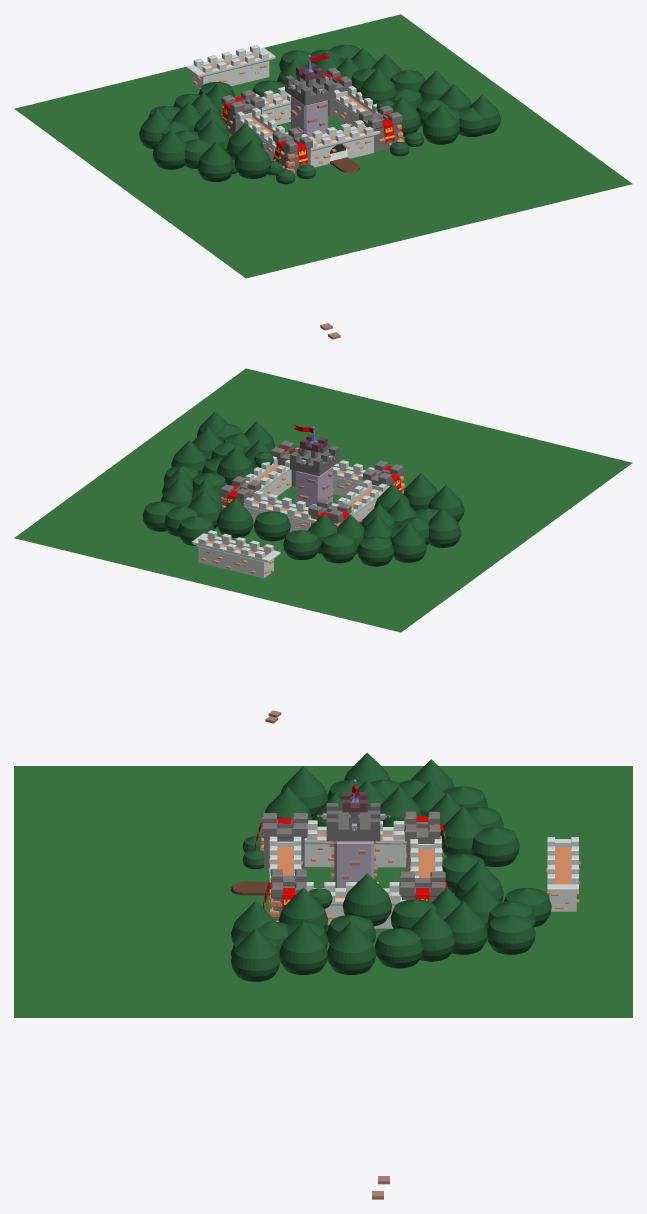
Rendered from castilloV2.glb.
3 renders of one model, top to bottom at view 1: azimuth 30°, elevation 25°; view 2: azimuth 150°, elevation 25°; view 3: azimuth 270°, elevation 25°, orthographic. The views are drawn at different scales.
Visible parts, largest first — view 1: Plane, MuroEsquina, Muro, MuroEsquina.003, MuroEsquina.002, MuroEsquina.001, Torre Central, TorreCentral2, Cylinder.006, Cylinder.011, Cylinder.032, Cylinder.033 (+11 smaller); view 2: Plane, Muro, MuroEsquina.002, MuroEsquina.001, MuroEsquina.003, Torre Central, TorreCentral2, MuroEsquina, Cylinder.041, Cylinder.010, Cylinder.033, Cylinder.047 (+13 smaller); view 3: Plane, MuroEsquina.003, MuroEsquina, MuroEsquina.001, Muro, MuroEsquina.002, Torre Central, TorreCentral2, Cylinder.007, Cylinder.018, Cylinder.019, Cylinder.036 (+22 smaller).
Boxes of the visible parts, left/top/right/bottom form: Plane: left=14, top=14, right=632, bottom=278; MuroEsquina: left=301, top=105, right=403, bottom=167; Muro: left=187, top=45, right=275, bottom=89; MuroEsquina.003: left=232, top=108, right=312, bottom=174; MuroEsquina.002: left=221, top=87, right=290, bottom=135; MuroEsquina.001: left=323, top=67, right=377, bottom=126; Torre Central: left=288, top=53, right=340, bottom=339; TorreCentral2: left=285, top=63, right=334, bottom=105; Cylinder.006: left=422, top=104, right=459, bottom=144; Cylinder.011: left=197, top=142, right=234, bottom=181; Cylinder.032: left=234, top=139, right=271, bottom=178; Cylinder.033: left=152, top=129, right=185, bottom=169; Plane: left=14, top=368, right=632, bottom=632; Muro: left=191, top=530, right=280, bottom=578; MuroEsquina.002: left=243, top=490, right=351, bottom=532; MuroEsquina.001: left=220, top=456, right=291, bottom=510; MuroEsquina.003: left=331, top=460, right=405, bottom=522; Torre Central: left=265, top=424, right=335, bottom=723; TorreCentral2: left=290, top=434, right=339, bottom=476; MuroEsquina: left=270, top=440, right=374, bottom=496; Cylinder.041: left=216, top=498, right=253, bottom=537; Cylinder.010: left=391, top=522, right=426, bottom=562; Cylinder.033: left=428, top=508, right=461, bottom=547; Cylinder.047: left=357, top=536, right=393, bottom=566; Plane: left=14, top=766, right=632, bottom=1017; MuroEsquina.003: left=255, top=813, right=406, bottom=869; MuroEsquina: left=263, top=836, right=306, bottom=921; MuroEsquina.001: left=306, top=871, right=447, bottom=928; Muro: left=545, top=837, right=580, bottom=911; MuroEsquina.002: left=404, top=811, right=448, bottom=877; Torre Central: left=317, top=779, right=390, bottom=1199; TorreCentral2: left=326, top=792, right=380, bottom=841; Cylinder.007: left=231, top=928, right=280, bottom=981; Cylinder.018: left=327, top=921, right=375, bottom=974; Cylinder.019: left=279, top=921, right=327, bottom=974; Cylinder.036: left=342, top=873, right=391, bottom=926.
Bounding box in the file's own units: 37.35 × 27.33 × 38.77.
